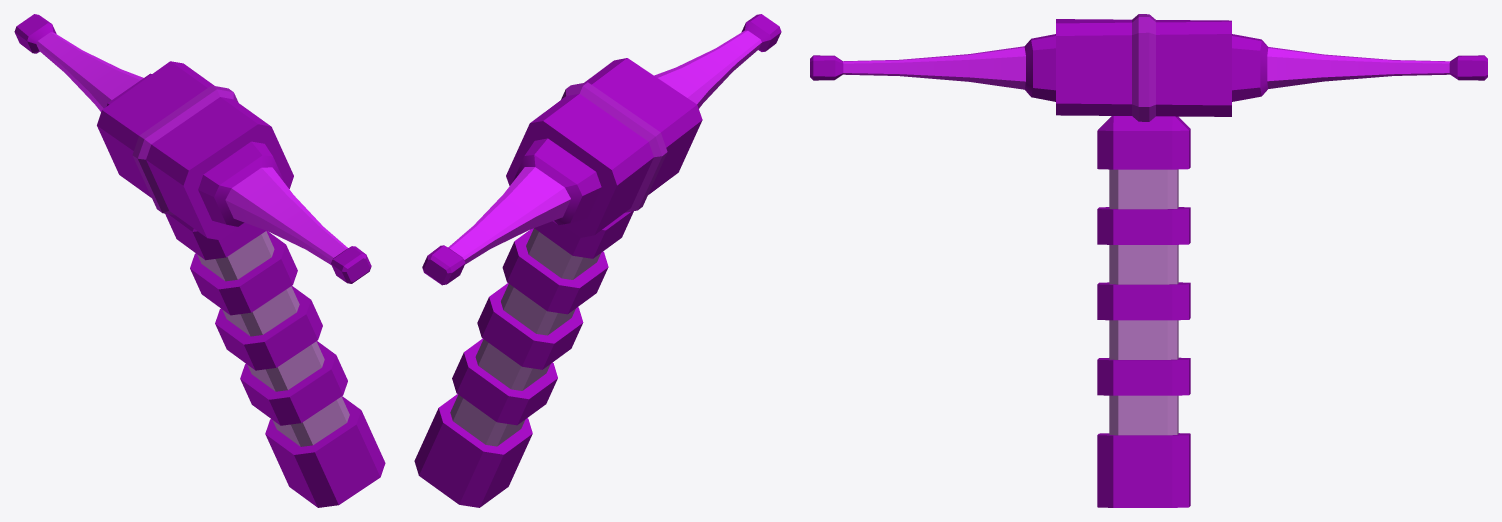
Rendered from fusionReady.fbx.
3 views of the same model, side by side, from view 1: azimuth 30°, elevation 25°; view 2: azimuth 150°, elevation 25°; view 3: azimuth 270°, elevation 25° (orthographic). The views are drawn at different scales.
Visible parts, largest first — view 1: body.004; view 2: body.004; view 3: body.004.
Part boxes in pixels (x1,y1,x2,y2): body.004: (14,14,385,507); body.004: (414,14,781,507); body.004: (810,14,1487,507).
Size of the model in its own units: 18.31 by 32.13 by 44.54.
